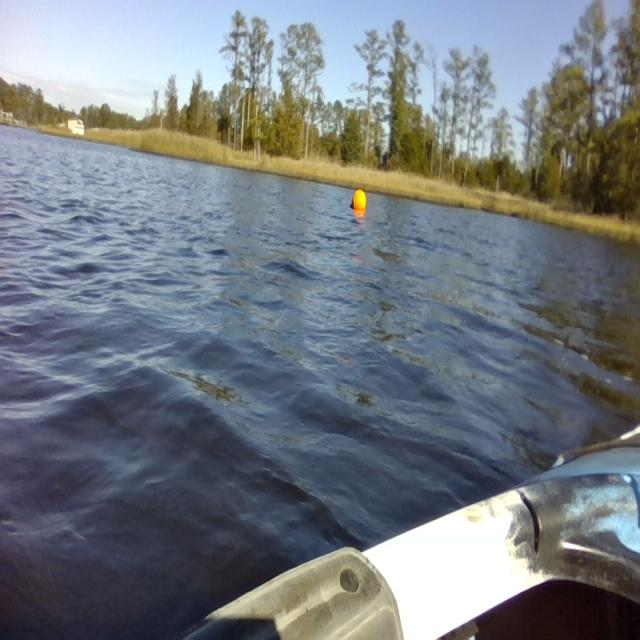Buoy: (350, 186, 368, 217)
